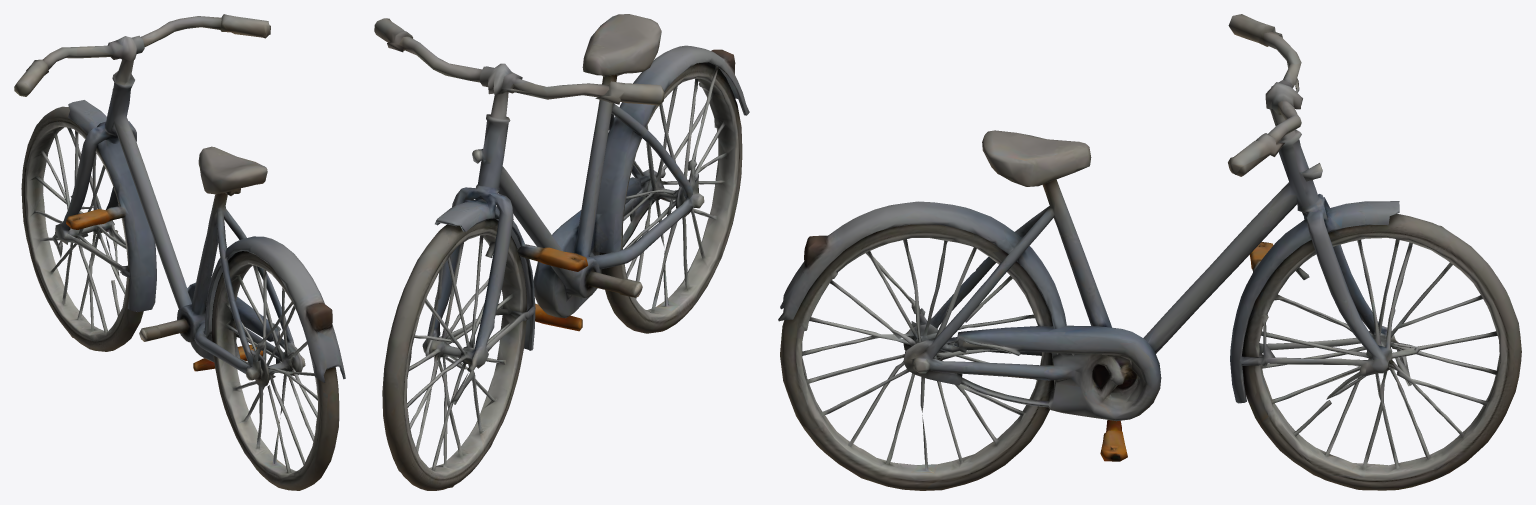
The picture shows the model from 3 angles, left to right: view 1: azimuth 30°, elevation 25°; view 2: azimuth 150°, elevation 25°; view 3: azimuth 270°, elevation 25°; orthographic projection. The views are drawn at different scales.
Visible parts, largest first — view 1: tripo_node_fa8e1173-276c-4ddf-a39b-14779a7db43f; view 2: tripo_node_fa8e1173-276c-4ddf-a39b-14779a7db43f; view 3: tripo_node_fa8e1173-276c-4ddf-a39b-14779a7db43f.
Part boxes in pixels (x1,y1,x2,y2): tripo_node_fa8e1173-276c-4ddf-a39b-14779a7db43f: [14, 14, 345, 490]; tripo_node_fa8e1173-276c-4ddf-a39b-14779a7db43f: [374, 14, 749, 490]; tripo_node_fa8e1173-276c-4ddf-a39b-14779a7db43f: [778, 14, 1521, 490].
Bounding box in the file's own units: 0.9339 × 1.2 × 1.97.
Materials: 1 (1 with a texture image).
